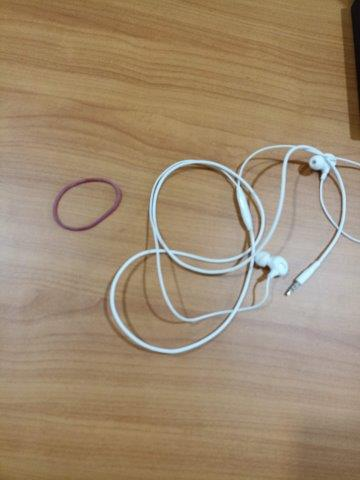karet: (52, 177, 122, 232)
